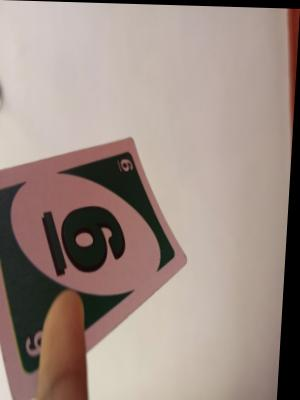green: (0, 182, 159, 284)
num_6: (113, 151, 138, 179)
